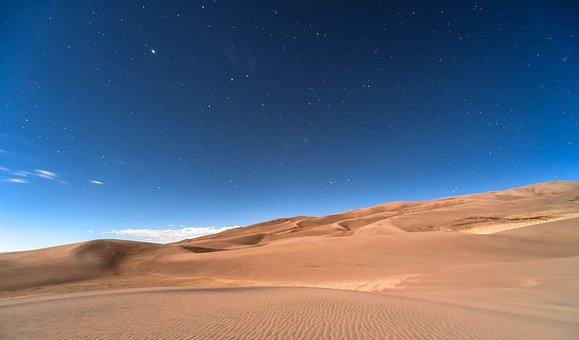ground: (5, 216, 579, 339)
sky: (1, 1, 579, 215)
